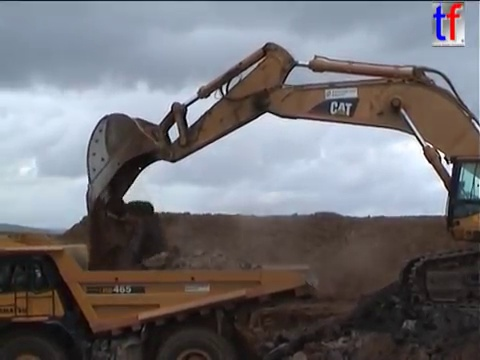excavator: (82, 38, 479, 313)
truck: (1, 228, 321, 360)
